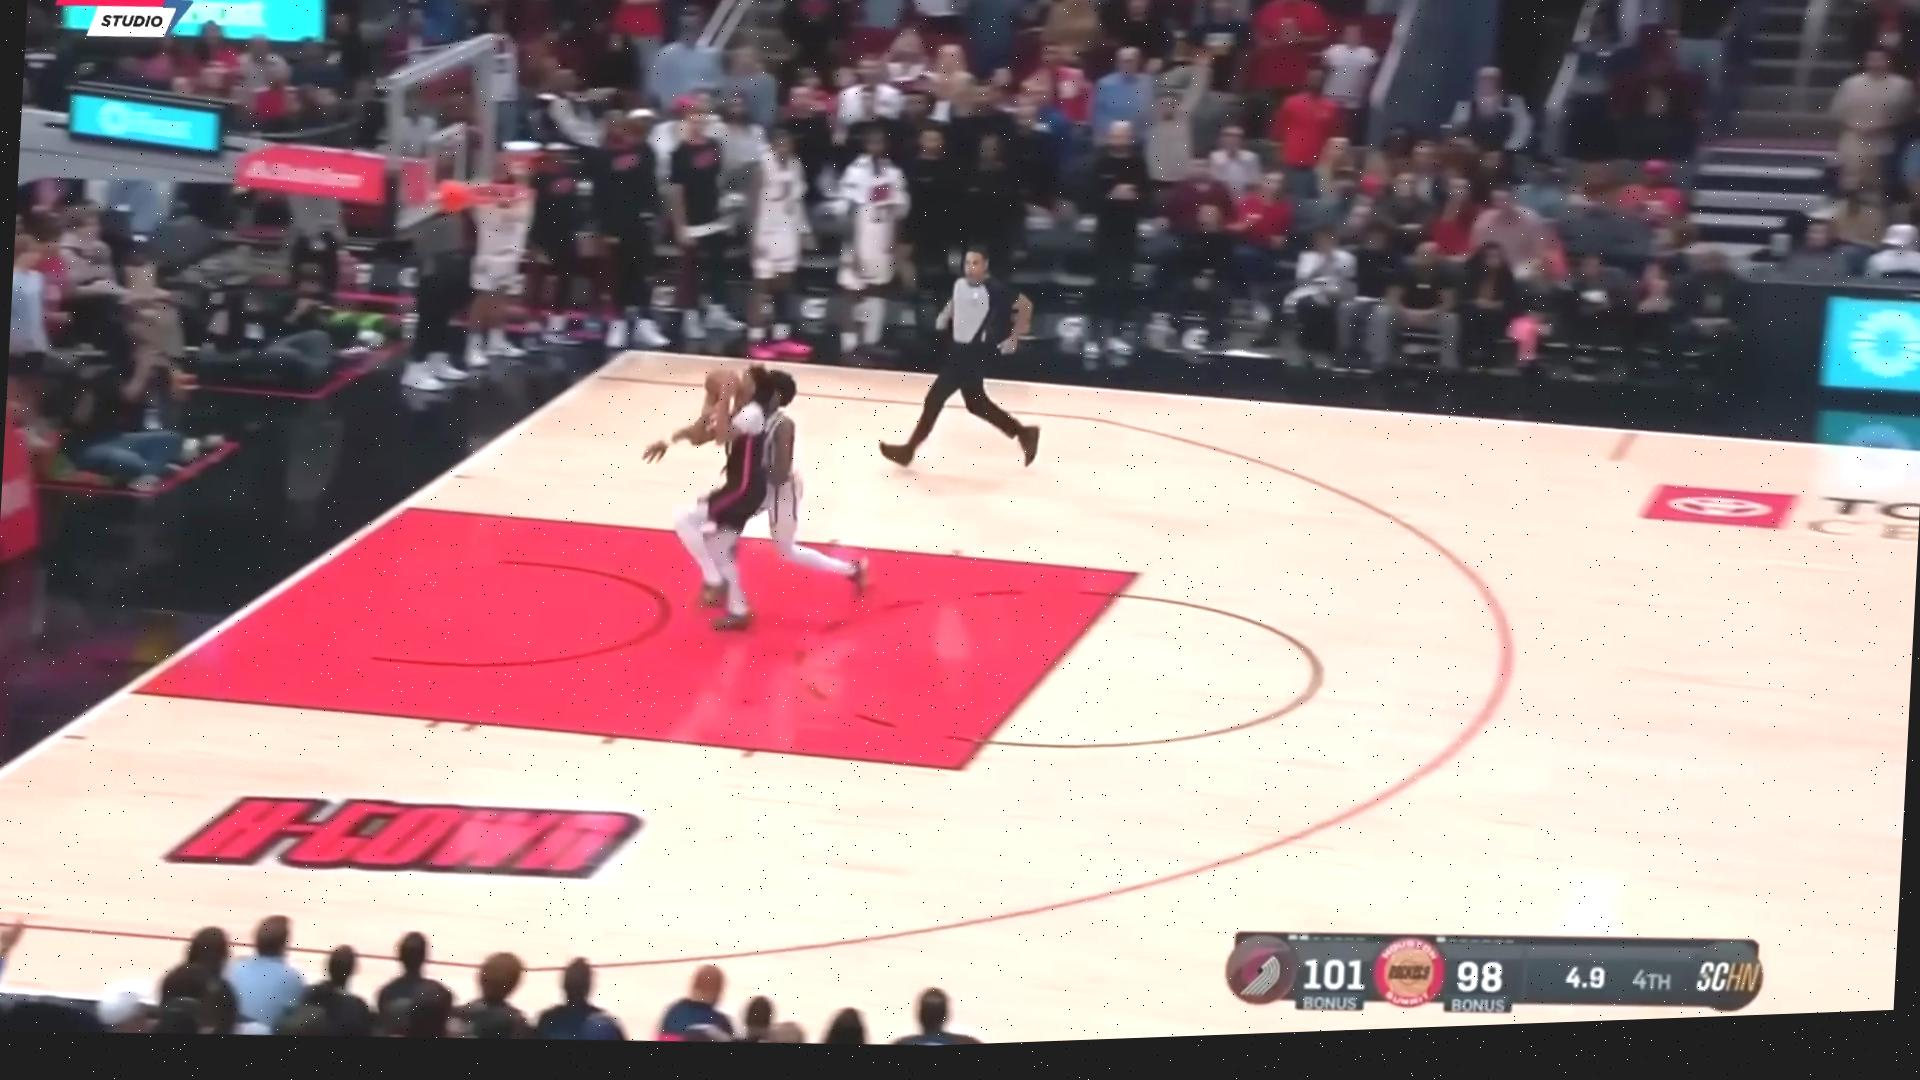no_foul: (622, 327, 889, 640)
